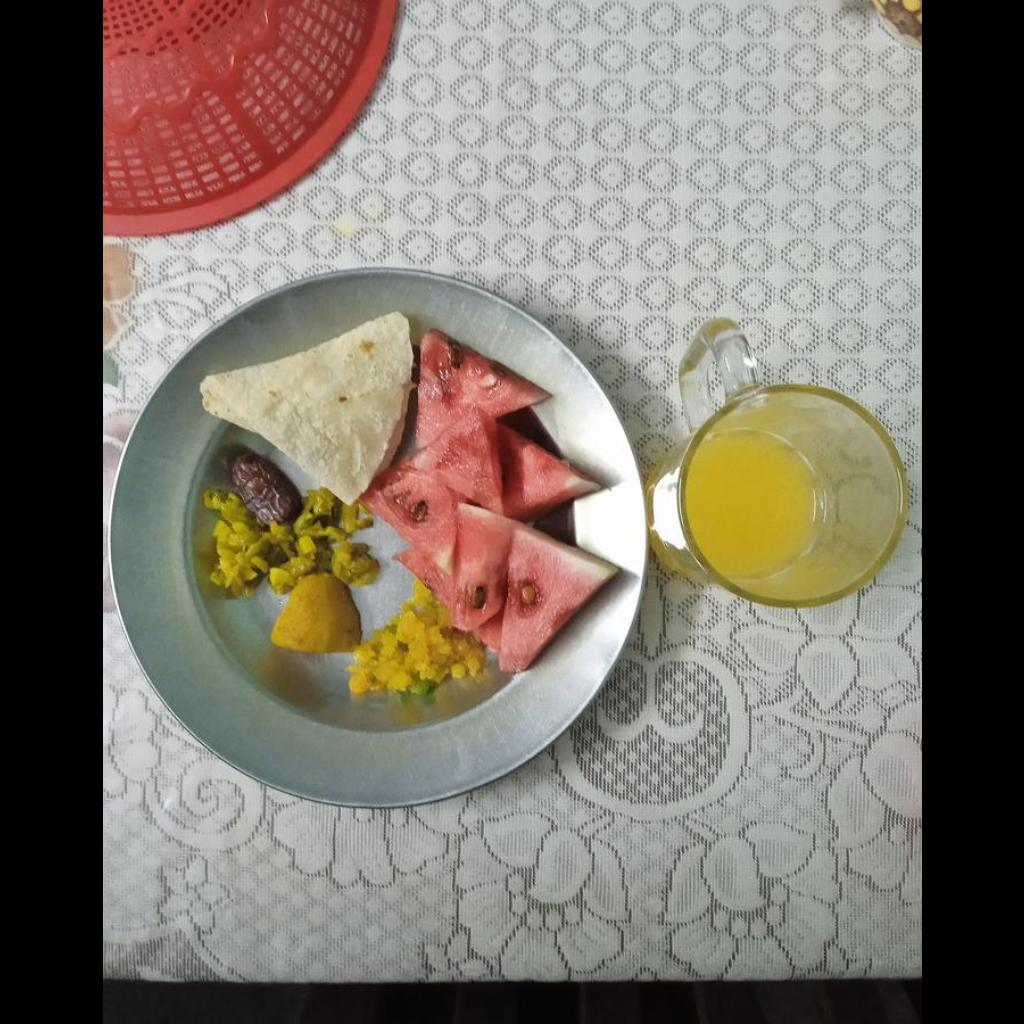burinda: (348, 581, 484, 695)
dates: (230, 445, 292, 516)
juice: (694, 436, 831, 575)
potato: (270, 573, 360, 652)
ruti: (201, 306, 418, 501)
vegetable: (203, 489, 376, 597)
watermelon: (378, 332, 621, 669)
